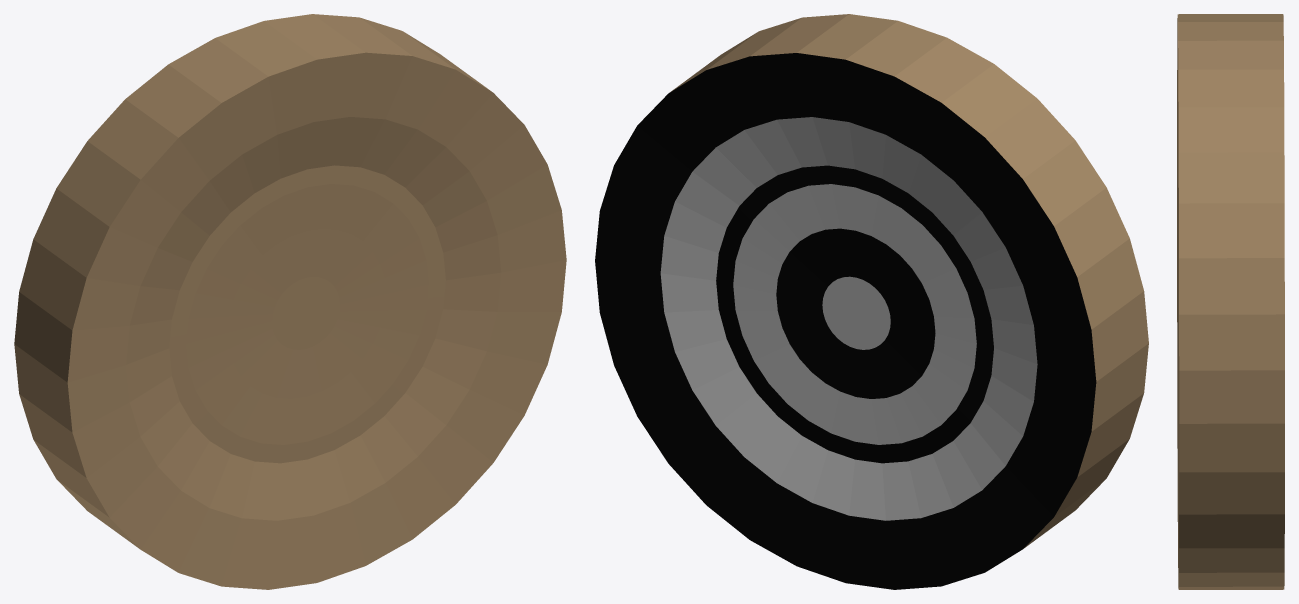
Rendered from target.fbx.
3 views of the same model, side by side, from view 1: azimuth 30°, elevation 25°; view 2: azimuth 150°, elevation 25°; view 3: azimuth 270°, elevation 25° (orthographic).
Parts seen in each view (by area): view 1: Cylinder; view 2: Cylinder; view 3: Cylinder.
Part boxes in pixels (x1,y1,x2,y2): Cylinder: (14, 14, 566, 589); Cylinder: (595, 14, 1148, 589); Cylinder: (1177, 14, 1284, 589).
Bounding box in the file's own units: 411 × 411 × 76.91.
